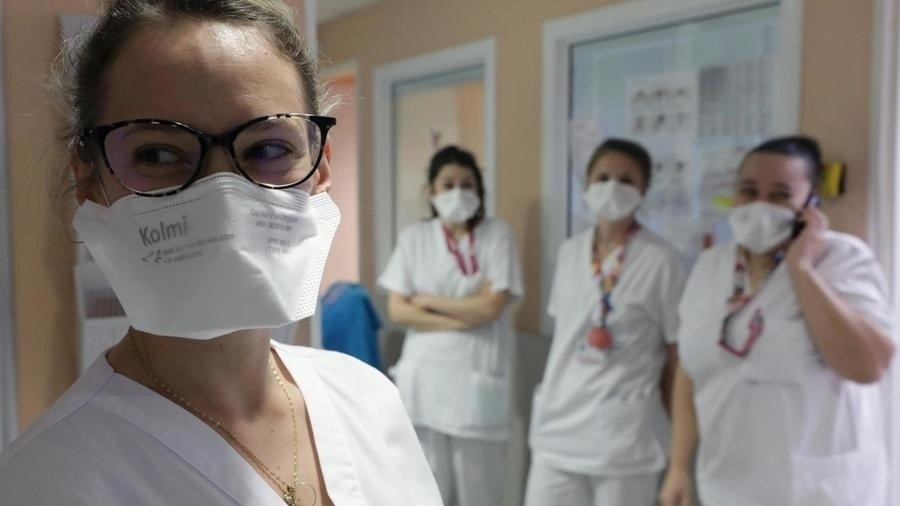face_with_mask: (57, 2, 345, 346), (724, 134, 823, 256), (579, 136, 656, 230), (428, 143, 485, 226)
